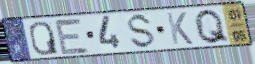4: (98, 14, 125, 53)
E: (52, 18, 92, 56)
K: (164, 11, 195, 46)
Q: (193, 8, 232, 46), (28, 20, 61, 56)
S: (127, 12, 157, 51)
